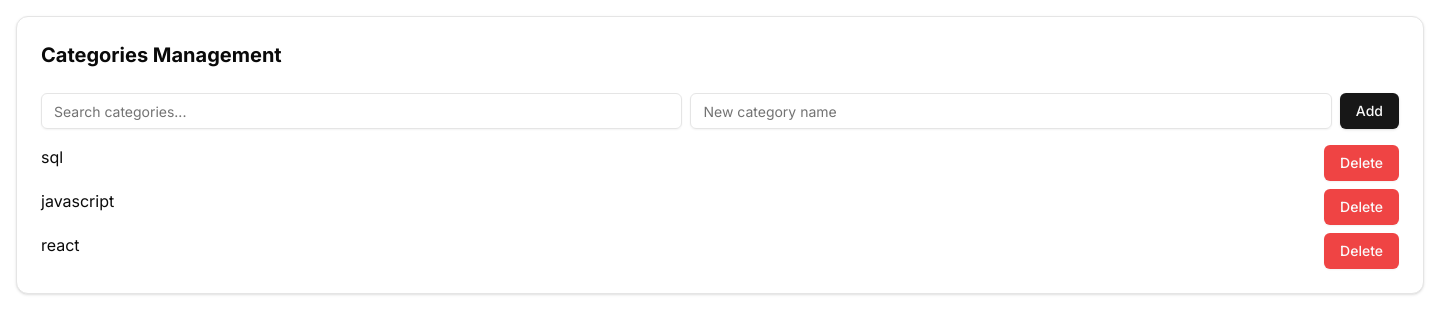
Test: CategorieAdminPage › affiche les catégories filtrées par le terme de recherche
The image size is (1440, 312).
Type "sql" into the field with placeholder "Search categories..." at (362, 111), box [41,93,682,129]
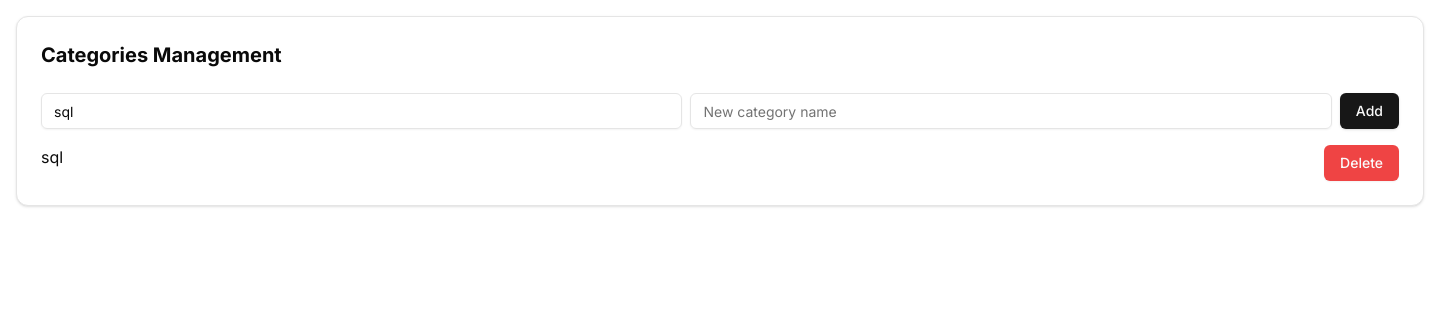
Expected: the text "sql" is shown, [41,147,63,167]
Result: the text "javascript" is gone
Result: the text "react" is gone
